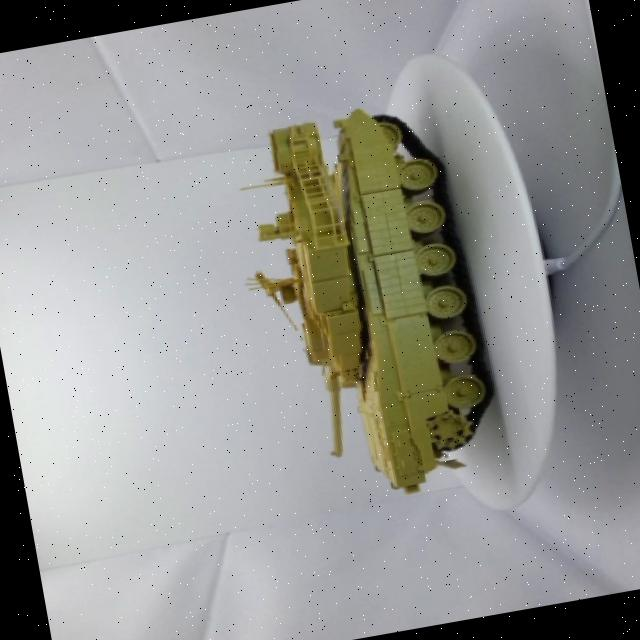korea tank: (208, 78, 530, 540)
